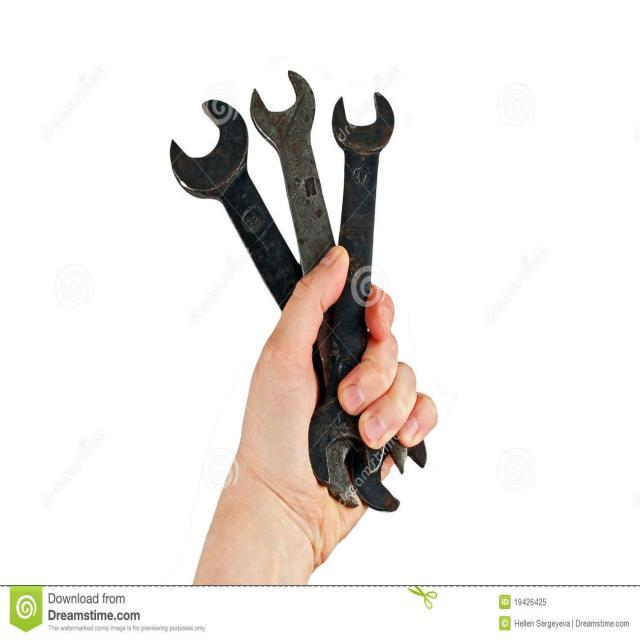wrench: (165, 98, 428, 514), (248, 66, 408, 510), (307, 90, 397, 494)
